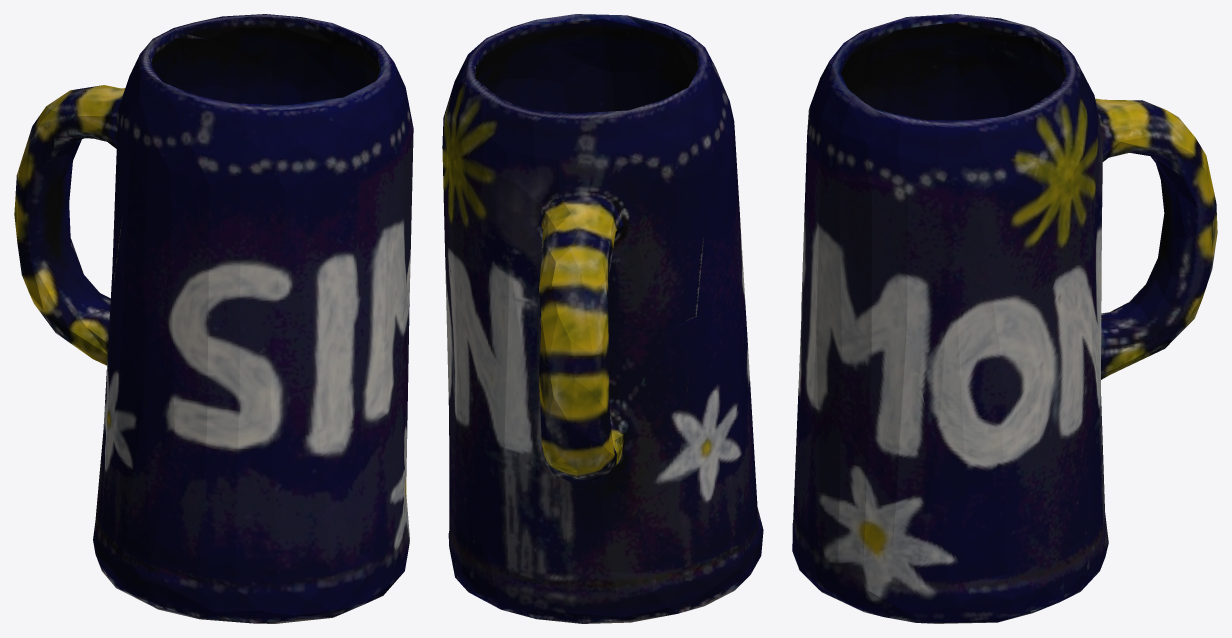
Rendered from 5D0C7D9A-A56E-724A-B47F-CDD7E73E2263_512.glb.
The picture shows the model from 3 angles, left to right: view 1: azimuth 30°, elevation 25°; view 2: azimuth 150°, elevation 25°; view 3: azimuth 270°, elevation 25°; orthographic projection.
Visible parts, largest first — view 1: Krug Blau_1k_512; view 2: Krug Blau_1k_512; view 3: Krug Blau_1k_512.
Part boxes in pixels (x1,y1,x2,y2): Krug Blau_1k_512: (14, 14, 413, 623); Krug Blau_1k_512: (442, 14, 763, 623); Krug Blau_1k_512: (792, 14, 1217, 623).
Bounding box in the file's own units: 0.1158 × 0.2001 × 0.1518.
Materials: 1 (1 with a texture image).
